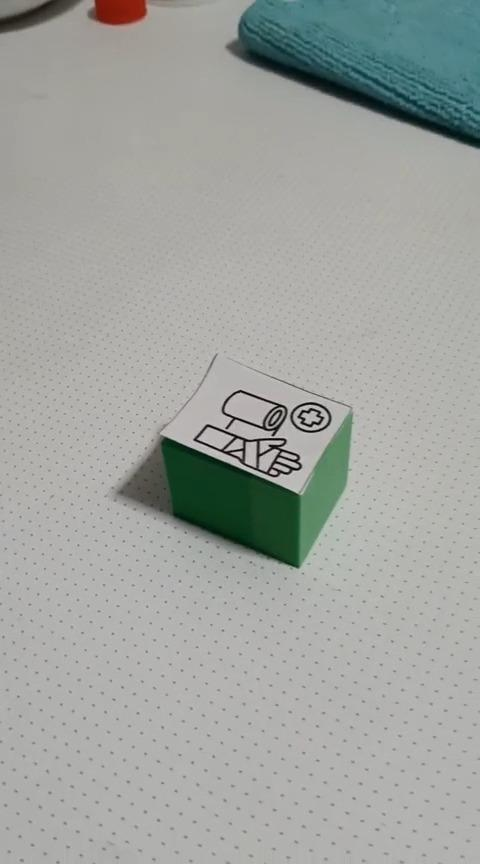Bandages: (158, 351, 353, 568), (236, 0, 479, 146)
